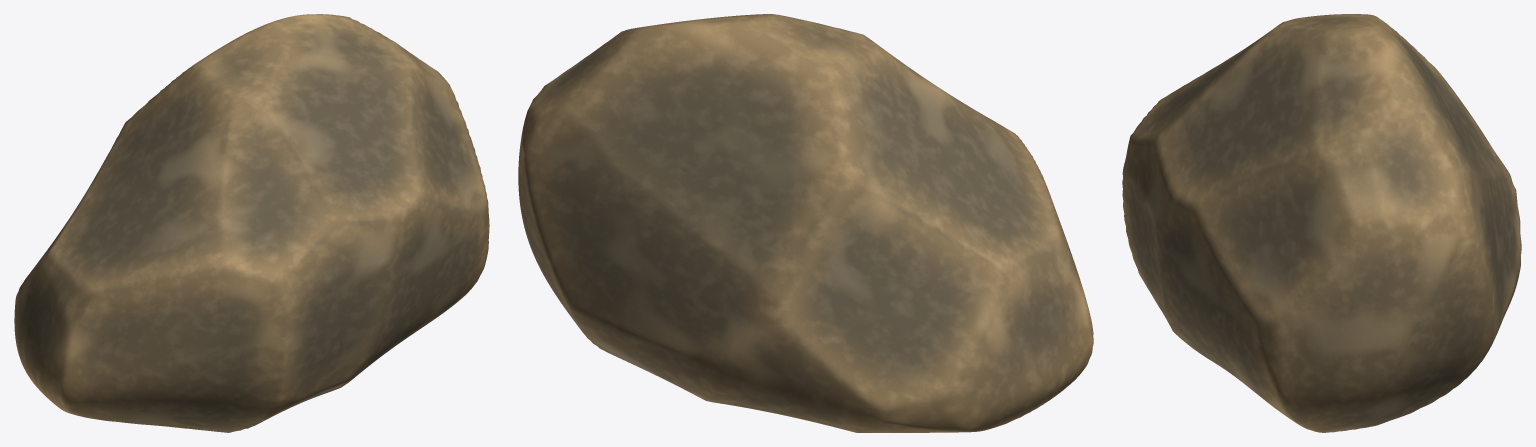
Rendered from round_rock_M.fbx.
3 views of the same model, side by side, from view 1: azimuth 30°, elevation 25°; view 2: azimuth 150°, elevation 25°; view 3: azimuth 270°, elevation 25° (orthographic). The views are drawn at different scales.
Visible parts, largest first — view 1: round_rock_M; view 2: round_rock_M; view 3: round_rock_M.
Part boxes in pixels (box(x1,y1,x2,y2)): round_rock_M: box(14, 14, 489, 432); round_rock_M: box(518, 14, 1093, 432); round_rock_M: box(1122, 14, 1521, 432).
Bounding box in the file's own units: 508 × 365 × 361.
